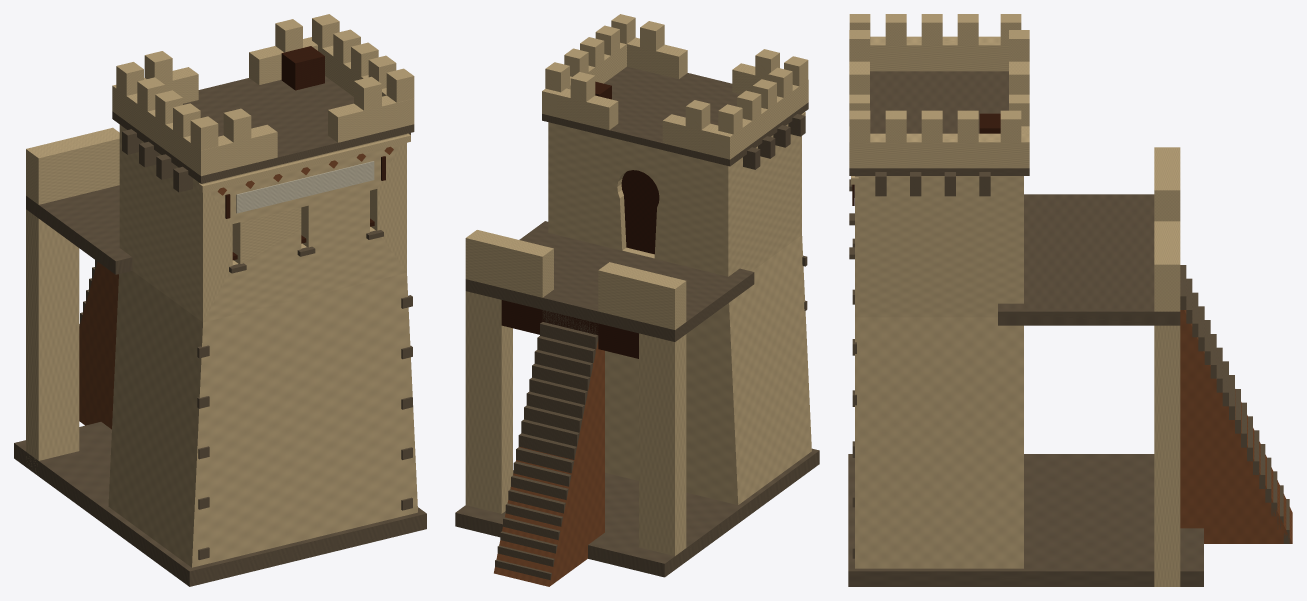
File: Berber_WallTower_Age4_arrow.fbx
3 renders of one model, left to right at view 1: azimuth 30°, elevation 25°; view 2: azimuth 150°, elevation 25°; view 3: azimuth 270°, elevation 25°, orthographic. The views are drawn at different scales.
Visible parts, largest first — view 1: battered_front_tower, front_upper_chamber, rear_support_west, ground_stone_plinth, roof_platform, rear_walk_parapet, stair_ramp_support, through_walk_deck, roof_side_parapet, owner_front_banner, roof_front_split_parapet.001, roof_front_split_parapet (+19 smaller); view 2: battered_front_tower, front_upper_chamber, rear_support_west, through_walk_deck, rear_support_east, ground_stone_plinth, stair_ramp_support, roof_platform, rear_walk_parapet_east, rear_walk_parapet, rear_bearer, rear_horseshoe_chamber_door (+38 smaller); view 3: battered_front_tower, ground_stone_plinth, front_upper_chamber, through_walk_deck, stair_ramp_support, roof_platform, rear_support_east, roof_side_parapet.001, roof_side_parapet, rear_walk_parapet_east, rear_walk_parapet, roof_side_merlon.006 (+11 smaller).
Boxes of the visible parts, x1,y1,x2,y2 form: battered_front_tower: (108, 271, 417, 567); front_upper_chamber: (119, 125, 406, 322); rear_support_west: (26, 209, 79, 474); ground_stone_plinth: (14, 422, 426, 586); roof_platform: (112, 76, 414, 183); rear_walk_parapet: (26, 127, 119, 204); stair_ramp_support: (79, 262, 118, 429); through_walk_deck: (26, 185, 132, 274); roof_side_parapet: (112, 85, 218, 176); owner_front_banner: (236, 161, 374, 213); roof_front_split_parapet.001: (328, 95, 396, 142); roof_front_split_parapet: (218, 124, 277, 171); battered_front_tower: (605, 235, 811, 504); front_upper_chamber: (548, 122, 801, 276); rear_support_west: (639, 333, 686, 555); through_walk_deck: (465, 221, 754, 341); rear_support_east: (465, 291, 512, 513); ground_stone_plinth: (455, 448, 819, 577); stair_ramp_support: (494, 340, 604, 586); roof_platform: (542, 66, 808, 166); rear_walk_parapet_east: (465, 230, 553, 297); rear_walk_parapet: (598, 262, 686, 329); rear_bearer: (501, 300, 638, 358); rear_horseshoe_chamber_door: (621, 170, 659, 254); battered_front_tower: (855, 317, 1023, 568); ground_stone_plinth: (848, 454, 1203, 586); front_upper_chamber: (855, 176, 1023, 317); through_walk_deck: (998, 194, 1180, 325); stair_ramp_support: (1180, 310, 1292, 543); roof_platform: (849, 71, 1029, 175); rear_support_east: (1154, 325, 1180, 586); roof_side_parapet.001: (849, 133, 1029, 168); roof_side_parapet: (870, 36, 1008, 71); rear_walk_parapet_east: (1154, 221, 1180, 311); rear_walk_parapet: (1154, 147, 1180, 221); roof_side_merlon.006: (885, 110, 906, 142).
Bounding box in the file's own units: 640 × 1174 × 1024.
6 materials, 6 textured.
